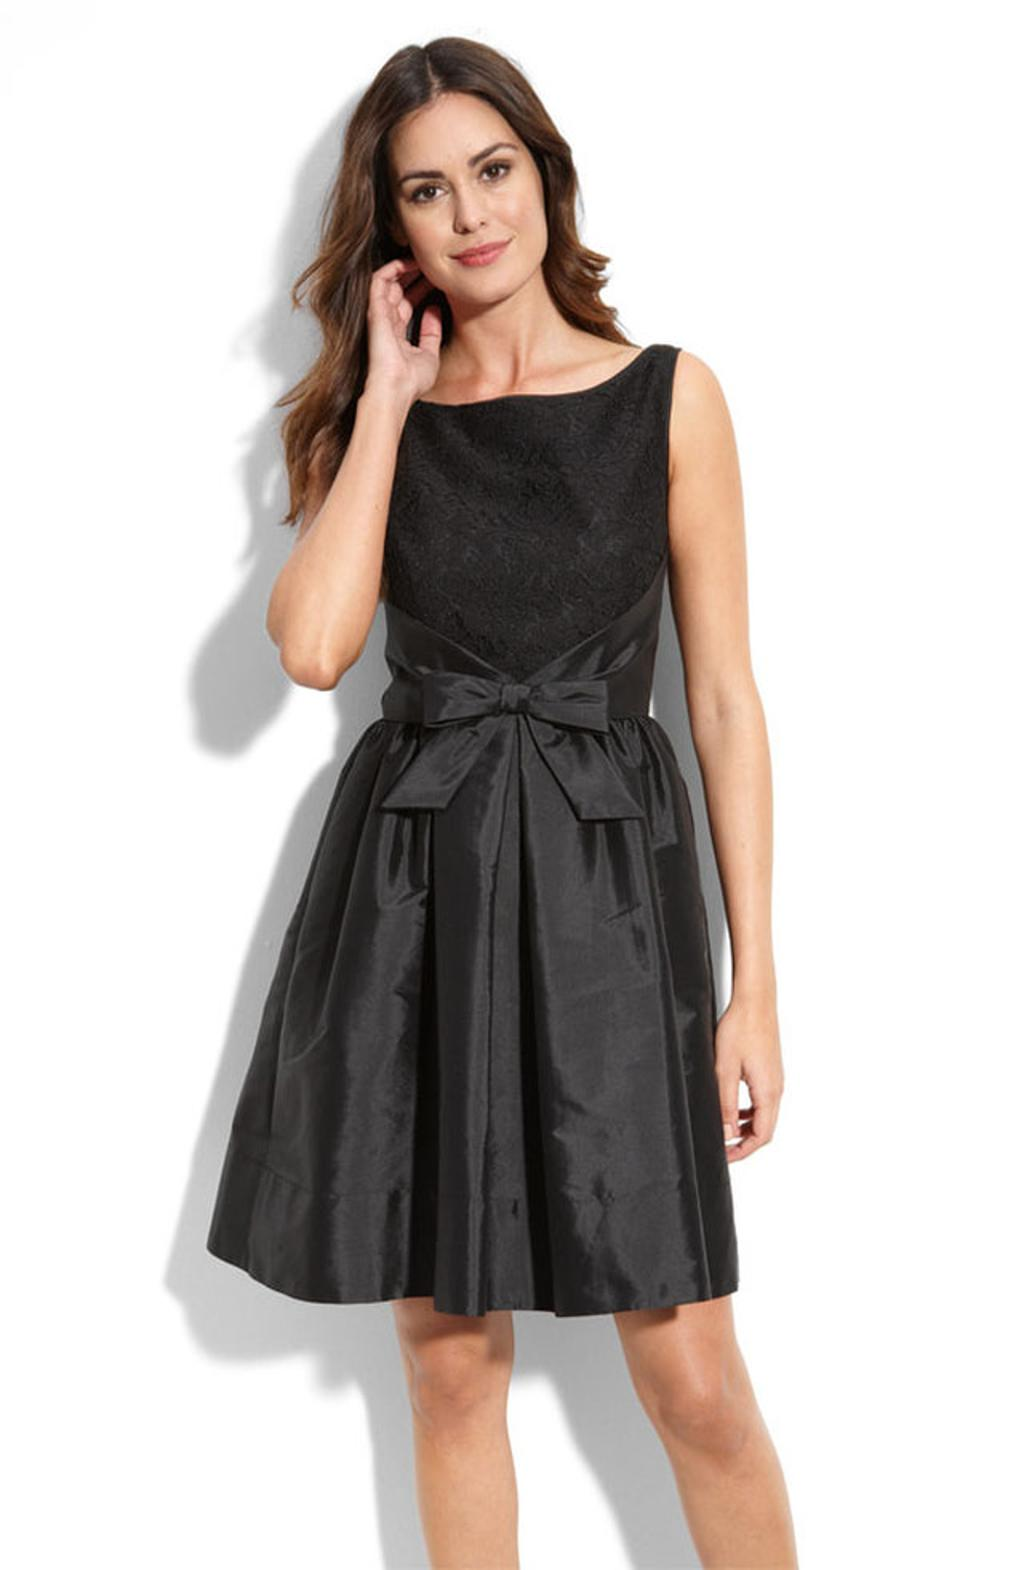face: (392, 98, 545, 303)
